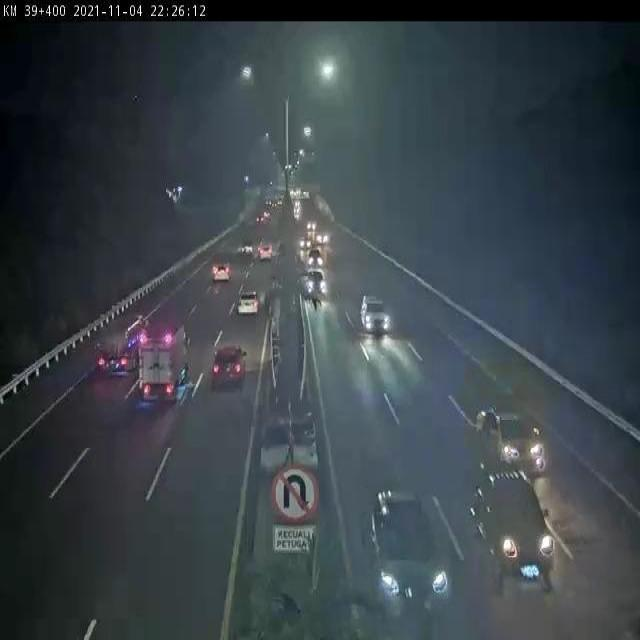Car: (368, 486, 452, 621), (471, 469, 555, 593), (473, 403, 549, 478), (211, 346, 247, 390), (360, 294, 392, 334), (305, 268, 328, 302), (237, 292, 259, 317), (212, 262, 232, 283), (307, 248, 324, 269), (259, 244, 272, 262)
Truck: (136, 321, 192, 404), (96, 313, 150, 375)
